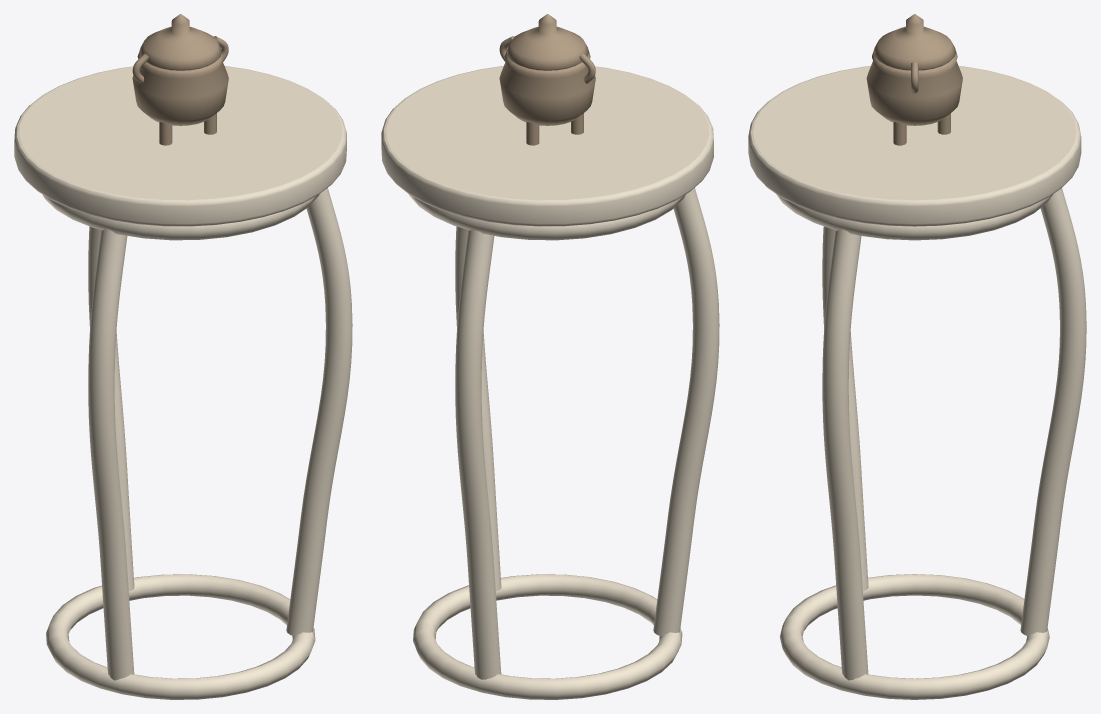
Rendered from sg_side_table.glb.
3 views of the same model, side by side, from view 1: azimuth 30°, elevation 25°; view 2: azimuth 150°, elevation 25°; view 3: azimuth 270°, elevation 25° (orthographic).
Parts seen in each view (by area): view 1: top, leg1, leg2, foot, burner_body, apron, burner_lid, leg0; view 2: top, leg0, leg1, foot, burner_body, apron, burner_lid, leg2; view 3: top, leg2, leg0, foot, burner_body, apron, burner_lid, leg1.
Boxes of the visible parts, x1=… form: top: x1=14, y1=66, x2=346, y2=226; leg1: x1=88, y1=229, x2=134, y2=680; leg2: x1=286, y1=188, x2=352, y2=636; foot: x1=46, y1=574, x2=315, y2=699; burner_body: x1=132, y1=52, x2=228, y2=125; apron: x1=42, y1=194, x2=319, y2=240; burner_lid: x1=139, y1=14, x2=221, y2=70; leg0: x1=88, y1=226, x2=134, y2=591; top: x1=381, y1=66, x2=713, y2=226; leg0: x1=455, y1=229, x2=501, y2=679; leg1: x1=653, y1=188, x2=719, y2=636; foot: x1=413, y1=574, x2=682, y2=699; burner_body: x1=499, y1=52, x2=595, y2=125; apron: x1=408, y1=194, x2=685, y2=240; burner_lid: x1=506, y1=14, x2=588, y2=70; leg2: x1=455, y1=226, x2=501, y2=591; top: x1=748, y1=66, x2=1081, y2=226; leg2: x1=822, y1=229, x2=868, y2=680; leg0: x1=1020, y1=188, x2=1086, y2=636; foot: x1=780, y1=574, x2=1049, y2=699; burner_body: x1=866, y1=52, x2=962, y2=125; apron: x1=776, y1=194, x2=1053, y2=240; burner_lid: x1=873, y1=14, x2=956, y2=70; leg1: x1=822, y1=226, x2=868, y2=591.
Bounding box in the file's own units: 0.35 × 0.7345 × 0.3557.
